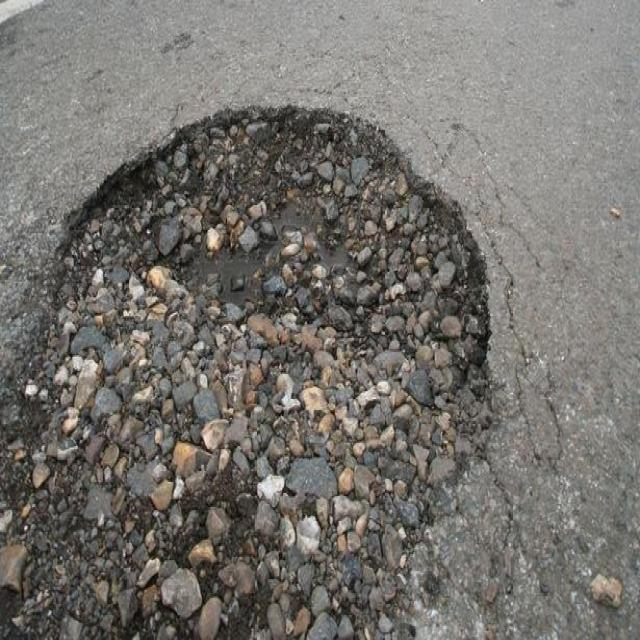lubang: (1, 77, 533, 640)
